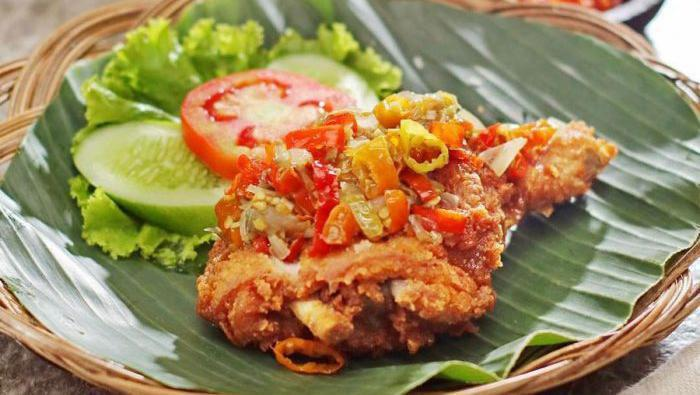ayam_geprek: (199, 102, 616, 355)
